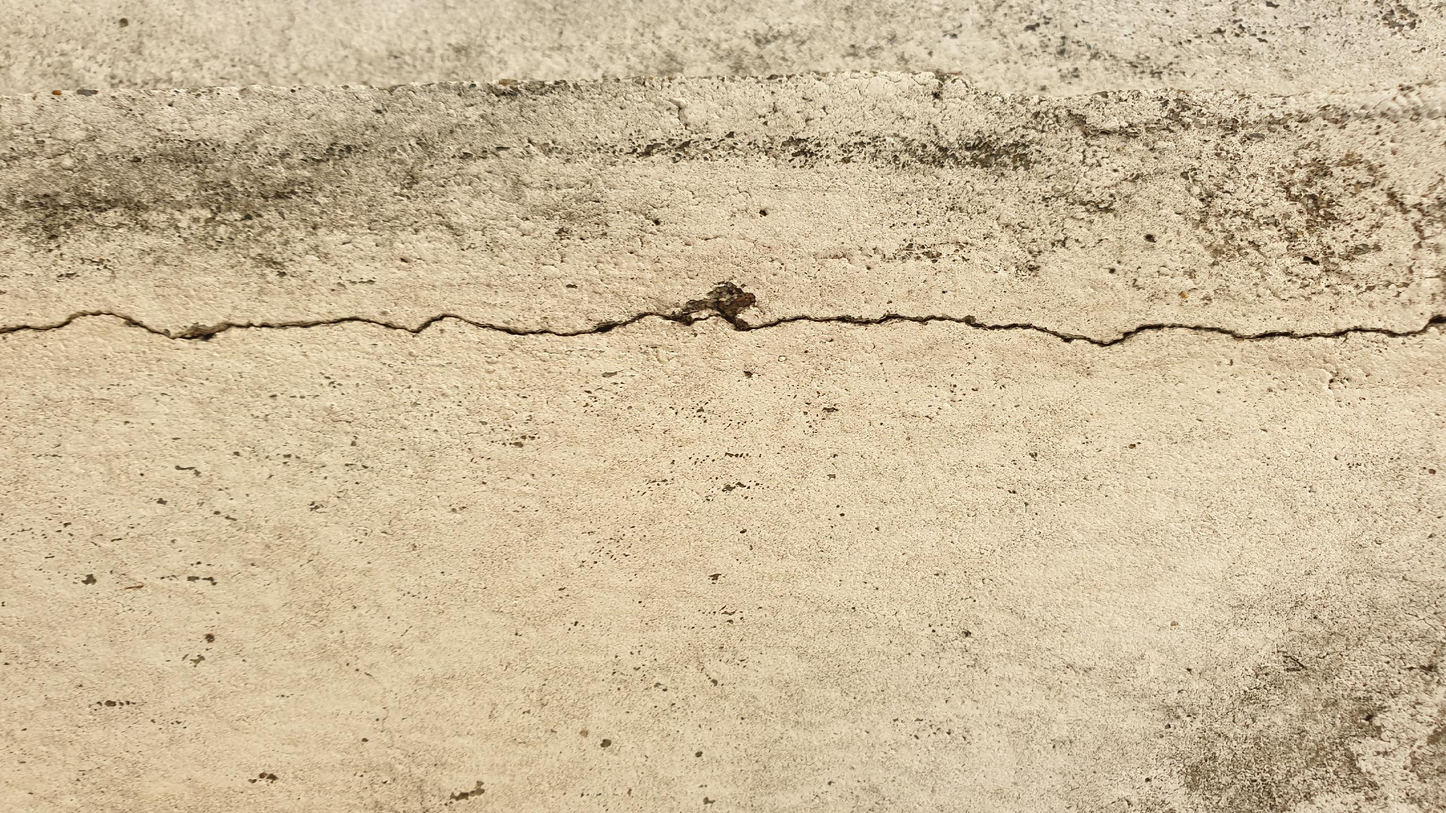crack: (10, 302, 1437, 354)
